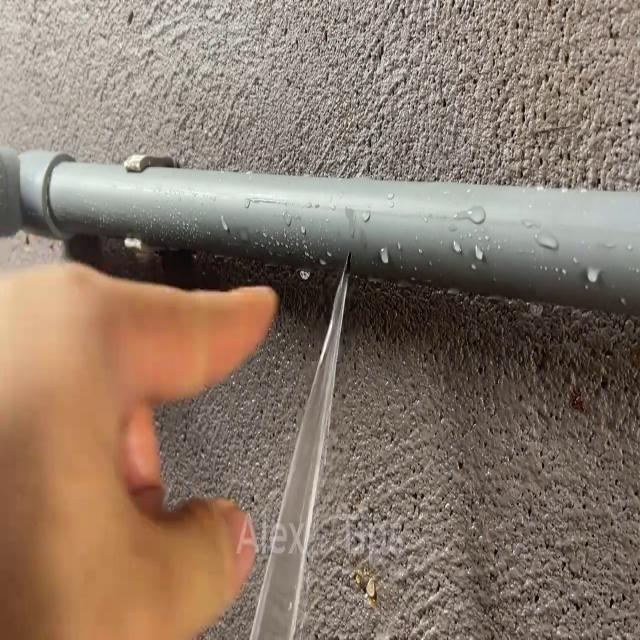leak: (248, 258, 350, 640)
